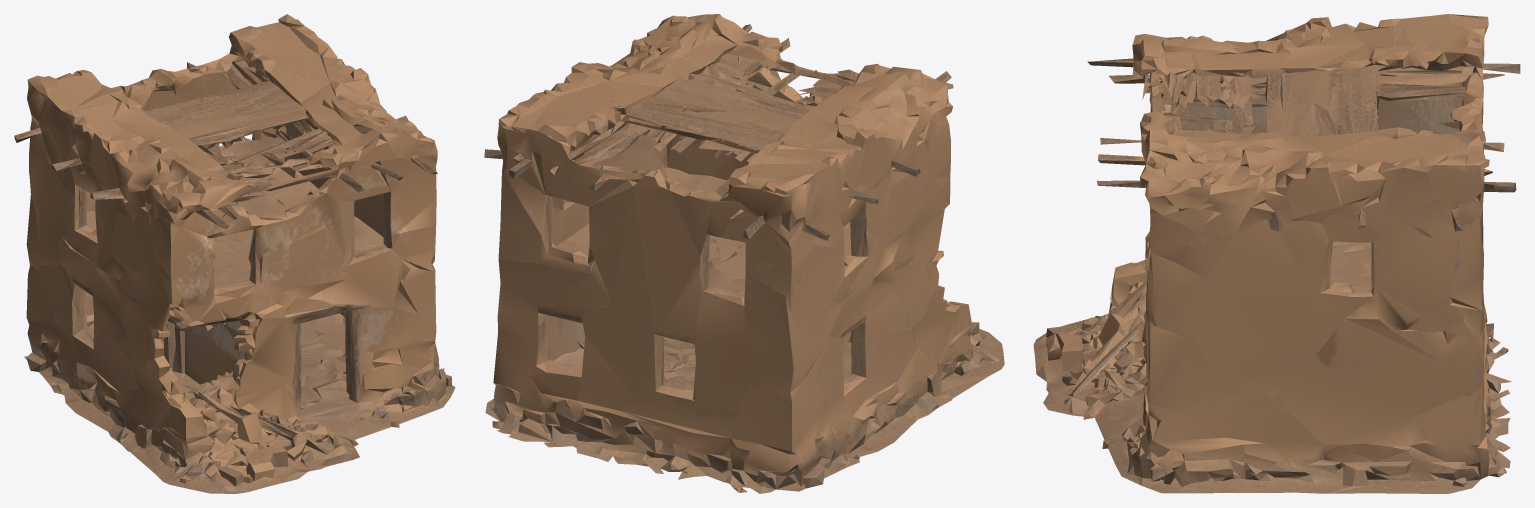
Rendered from adobe.glb.
The picture shows the model from 3 angles, left to right: view 1: azimuth 30°, elevation 25°; view 2: azimuth 150°, elevation 25°; view 3: azimuth 270°, elevation 25°; orthographic projection. The views are drawn at different scales.
Parts seen in each view (by area): view 1: Mesh_0; view 2: Mesh_0; view 3: Mesh_0.
Boxes of the visible parts, x1=… form: Mesh_0: x1=14, y1=14, x2=455, y2=493; Mesh_0: x1=484, y1=14, x2=1004, y2=493; Mesh_0: x1=1033, y1=14, x2=1520, y2=493.
Bounding box in the file's own units: 1.67 × 1.39 × 1.91.
1 material, 1 textured.
